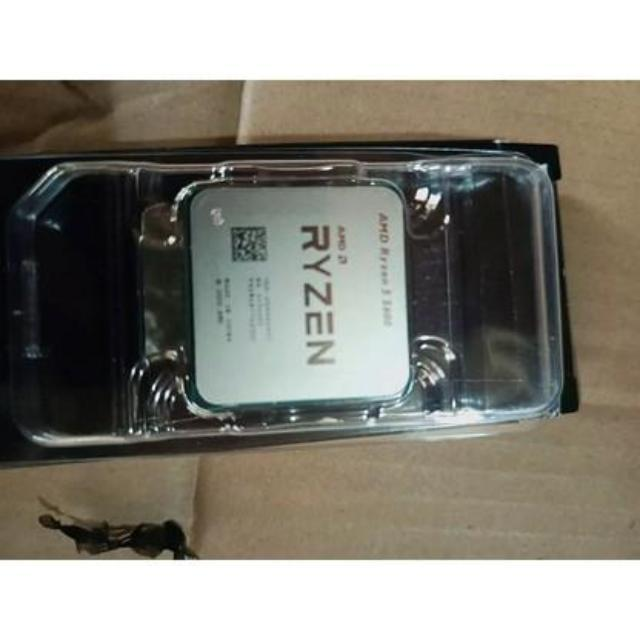CPU: (186, 186, 412, 408)
